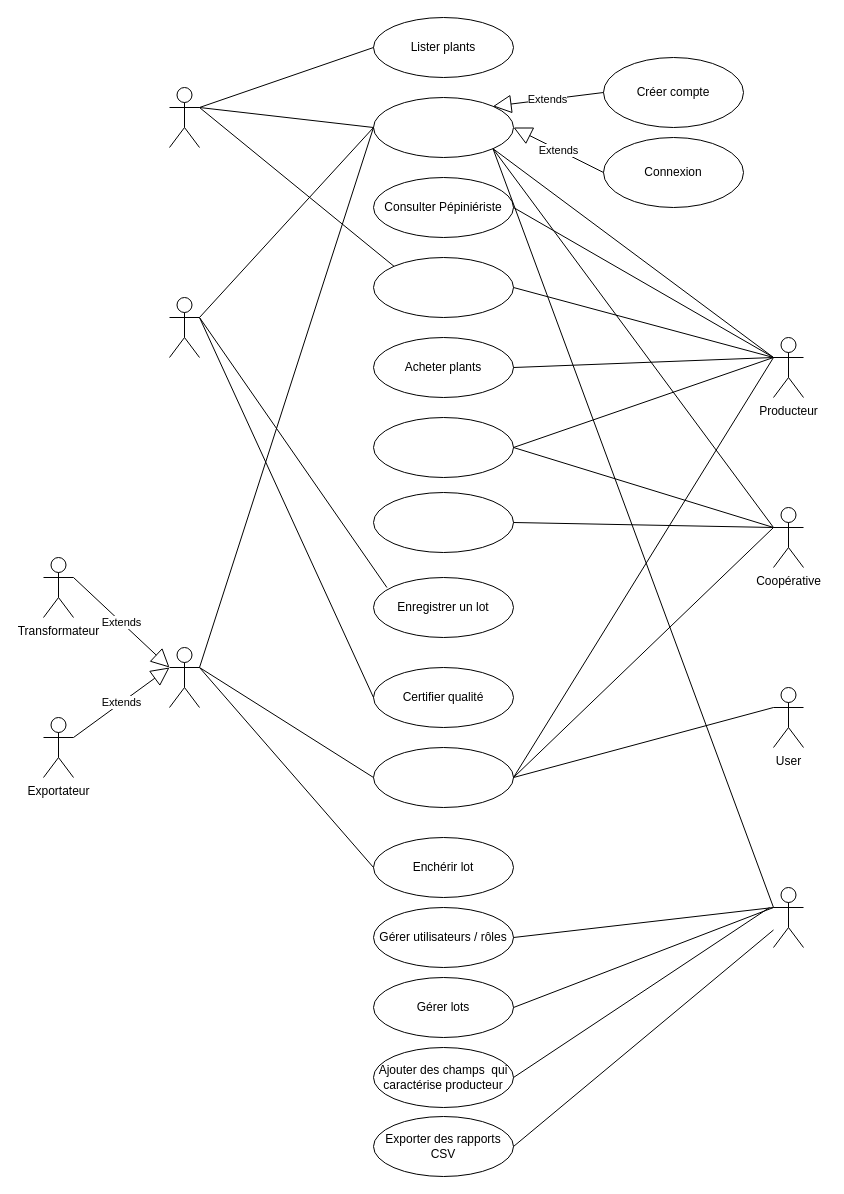
Image size: 844x1194. Some labels were removed from this diagram. The centre of each missing label's shape, as x and y in pixels:
"Administrateur" goes at (788,917).
"Authentification" goes at (443,127).
"Client" goes at (184,677).
"Consulter lots" goes at (443,777).
"Consulter plants" goes at (443,287).
"Enregistrer membre" goes at (443,522).
"Proposer lots" goes at (443,447).
"Pépiniériste" goes at (184,117).
"Qualiticien" goes at (184,327).
